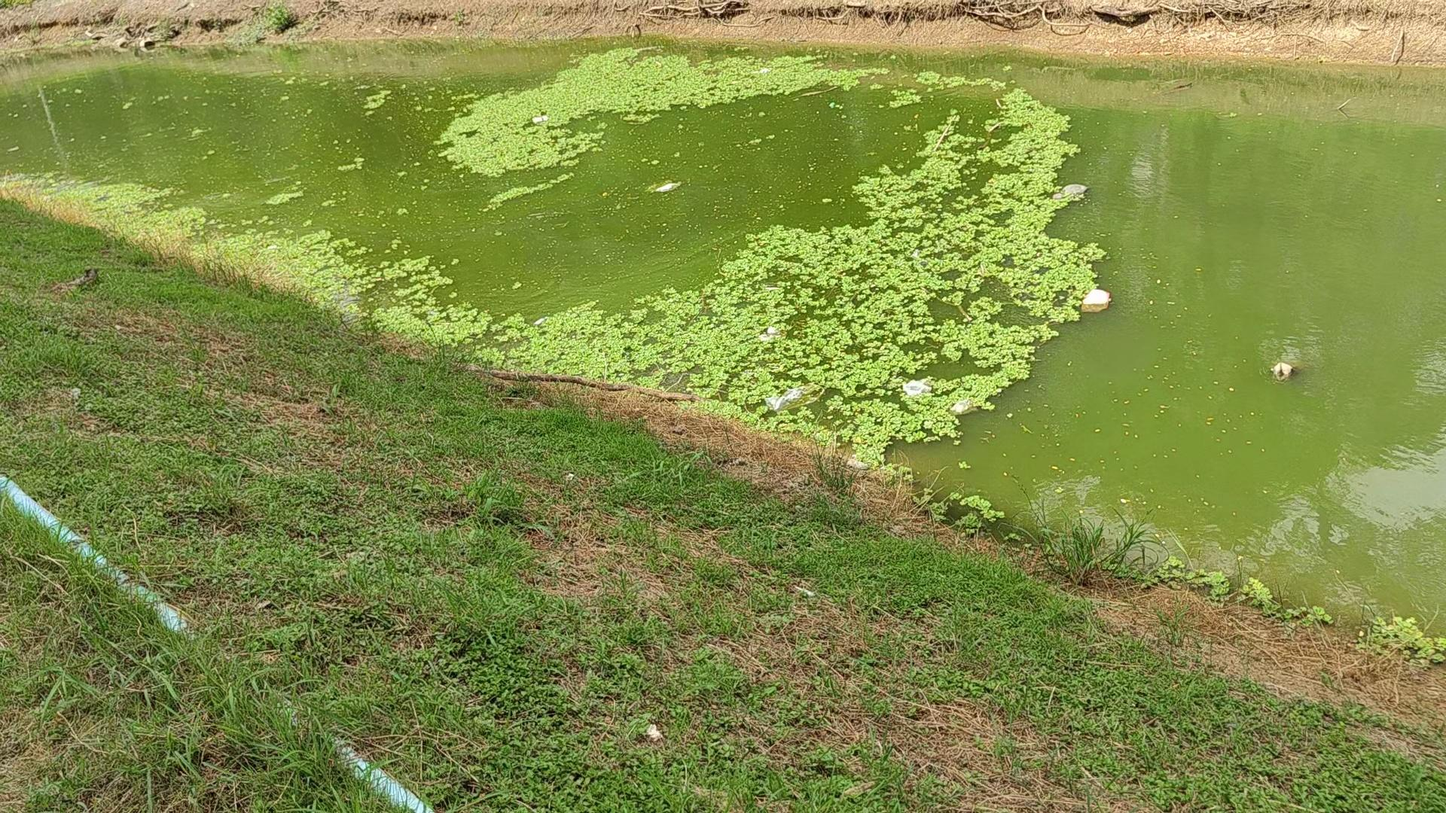trash: (765, 387, 804, 410), (1081, 288, 1110, 312), (1054, 184, 1088, 199), (903, 379, 931, 396), (1271, 361, 1293, 380), (950, 399, 975, 414), (758, 327, 778, 341), (655, 182, 679, 192), (532, 114, 548, 123), (757, 67, 770, 73)
